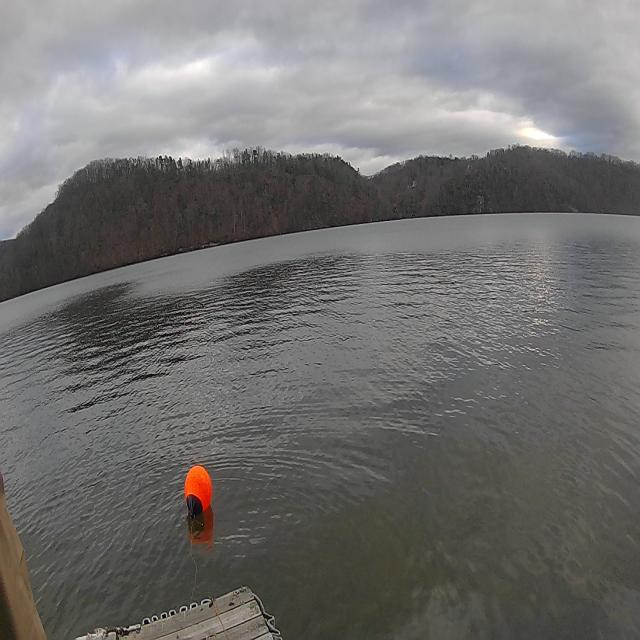Buoy: (182, 460, 218, 530)
